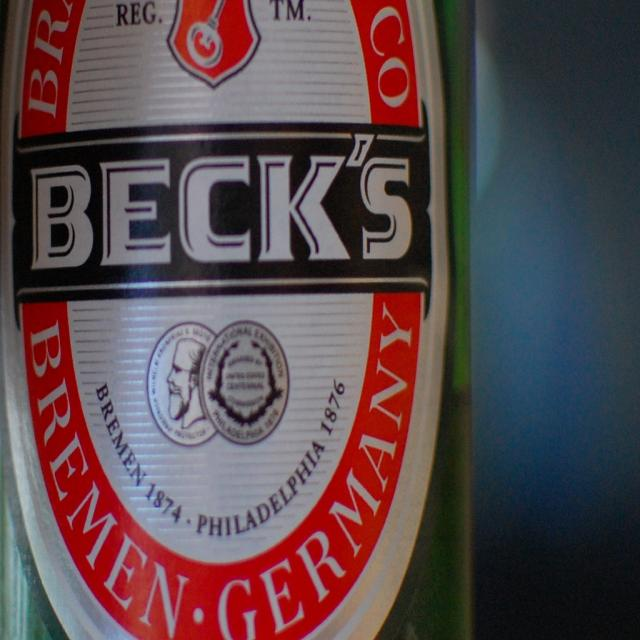becks: (2, 2, 450, 640)
